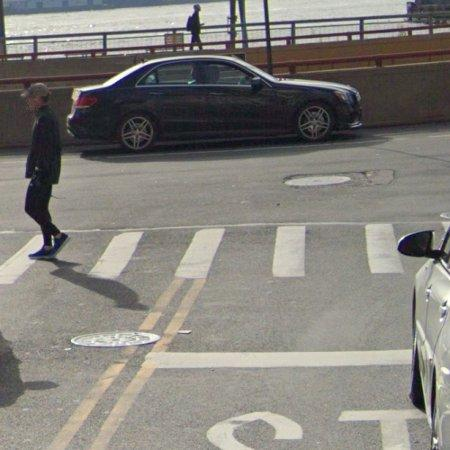crosswalks: (0, 222, 450, 287)
